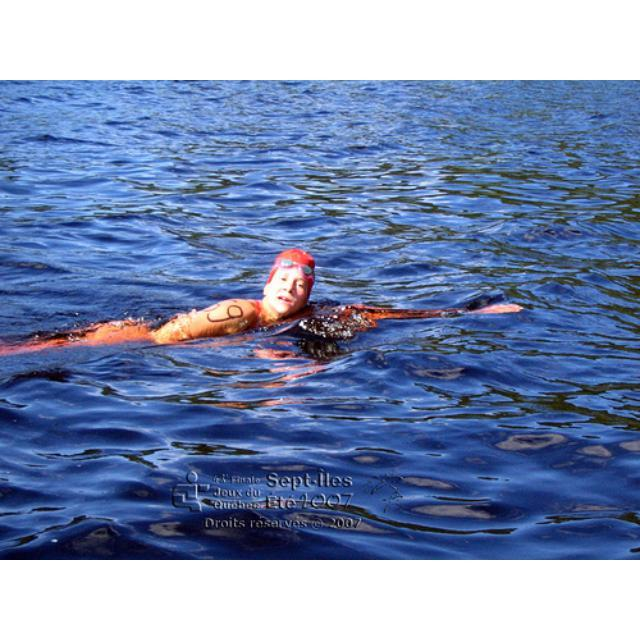human: (18, 250, 321, 363)
